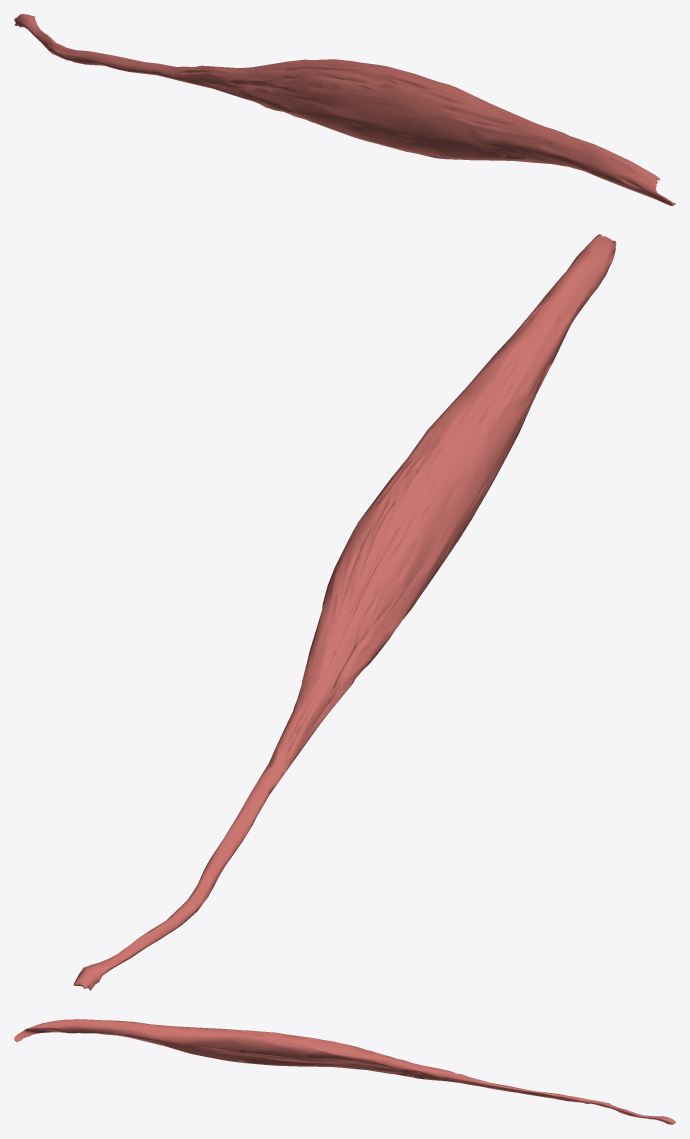
The picture shows the model from 3 angles, top to bottom: view 1: azimuth 30°, elevation 25°; view 2: azimuth 150°, elevation 25°; view 3: azimuth 270°, elevation 25°; orthographic projection. The views are drawn at different scales.
Parts seen in each view (by area): view 1: 右侧桡侧腕短伸肌; view 2: 右侧桡侧腕短伸肌; view 3: 右侧桡侧腕短伸肌.
Boxes of the visible parts, left/top/right/bottom form: 右侧桡侧腕短伸肌: left=14, top=14, right=675, bottom=205; 右侧桡侧腕短伸肌: left=73, top=234, right=616, bottom=990; 右侧桡侧腕短伸肌: left=14, top=1019, right=675, bottom=1124.
Size of the model in its own units: 0.0675 by 0.1001 by 0.4607.
